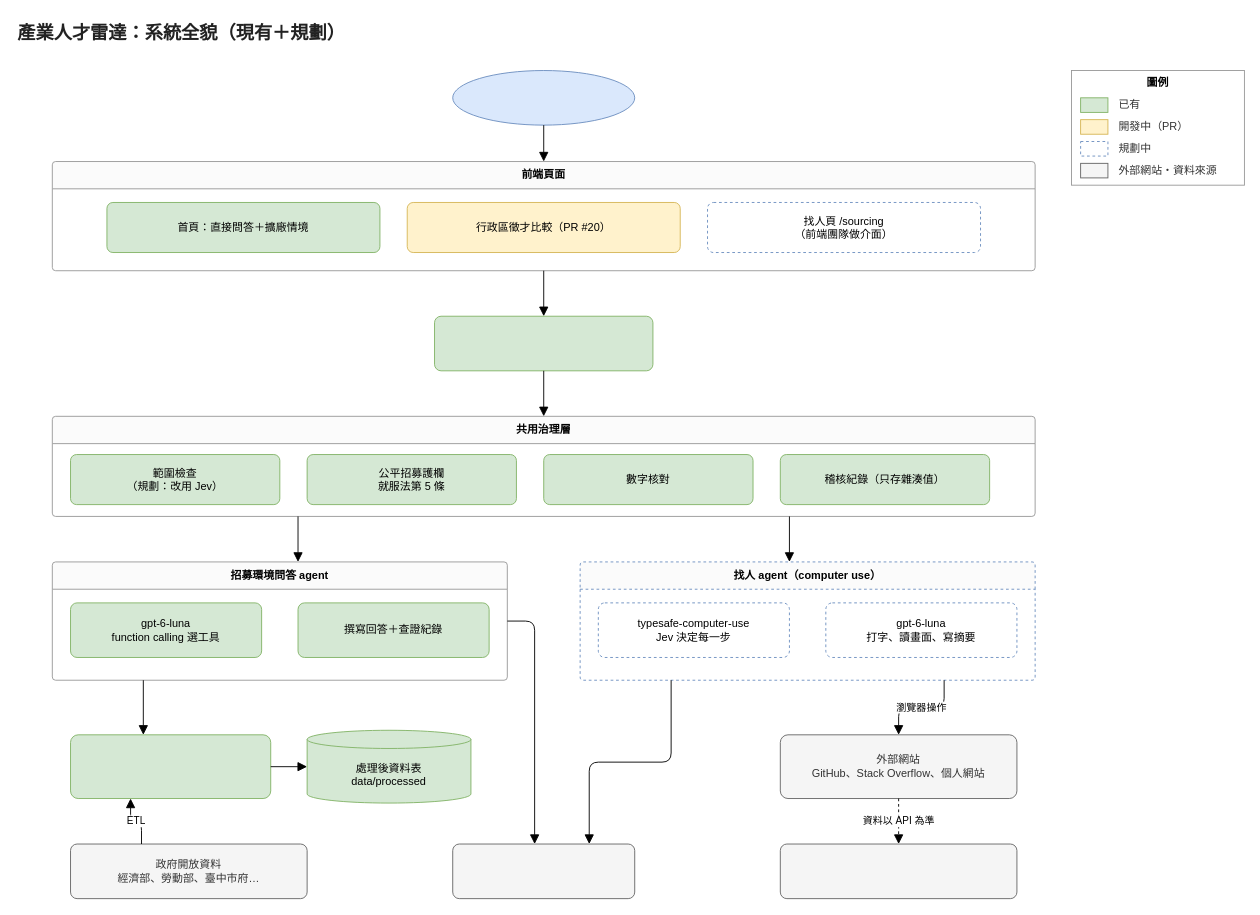
Some shapes in this 1260 by 915 pixel diagram are drawn without their labels. The centre of each missing label's shape, as x and y in pixels:
"FastAPI 後端（api/main.py）" belongs at pixel 543 343.
"HR／工廠老闆" belongs at pixel 543 97.
"OpenRouter gpt-6-luna、Jev" belongs at pixel 543 871.
"官方 API GitHub、Stack Exchange、ORCID" belongs at pixel 898 871.
"官方資料工具 engine/ ＋預測引擎 forecast/" belongs at pixel 170 766.
